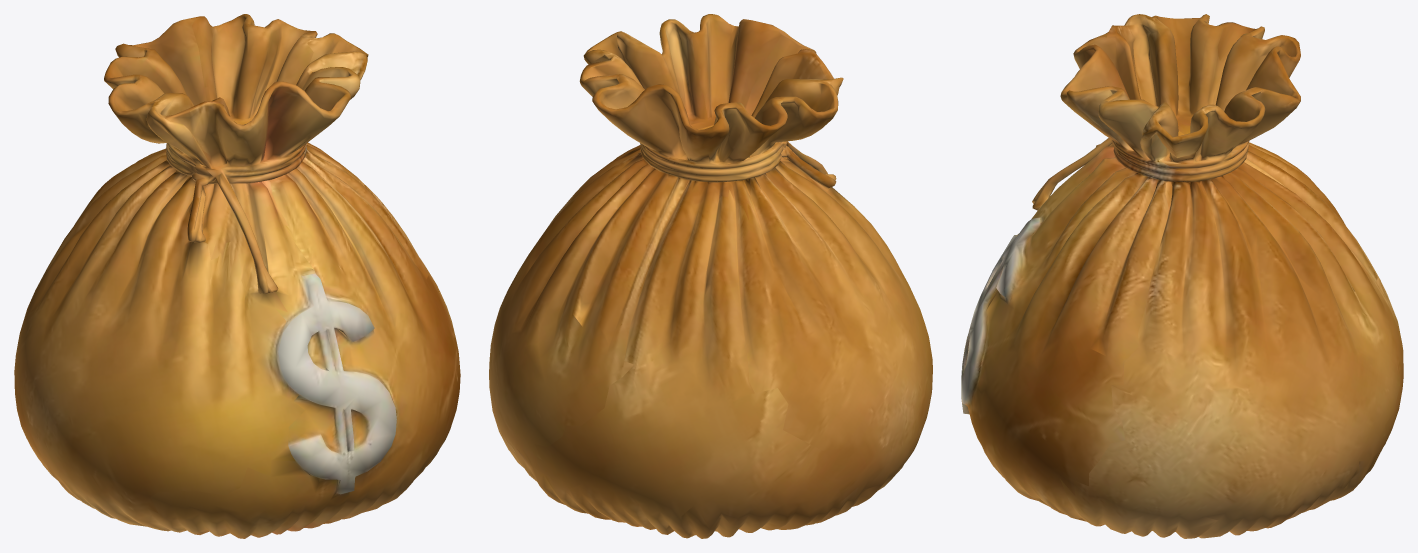
Rendered from card.glb.
3 renders of one model, left to right at view 1: azimuth 30°, elevation 25°; view 2: azimuth 150°, elevation 25°; view 3: azimuth 270°, elevation 25°, orthographic.
Visible parts, largest first — view 1: model; view 2: model; view 3: model.
Boxes of the visible parts, bbox=[...] form: model: bbox=[14, 14, 460, 538]; model: bbox=[489, 14, 932, 538]; model: bbox=[961, 14, 1403, 538].
Size of the model in its own units: 1.91 by 2 by 1.89.
Materials: 1 (1 with a texture image).
